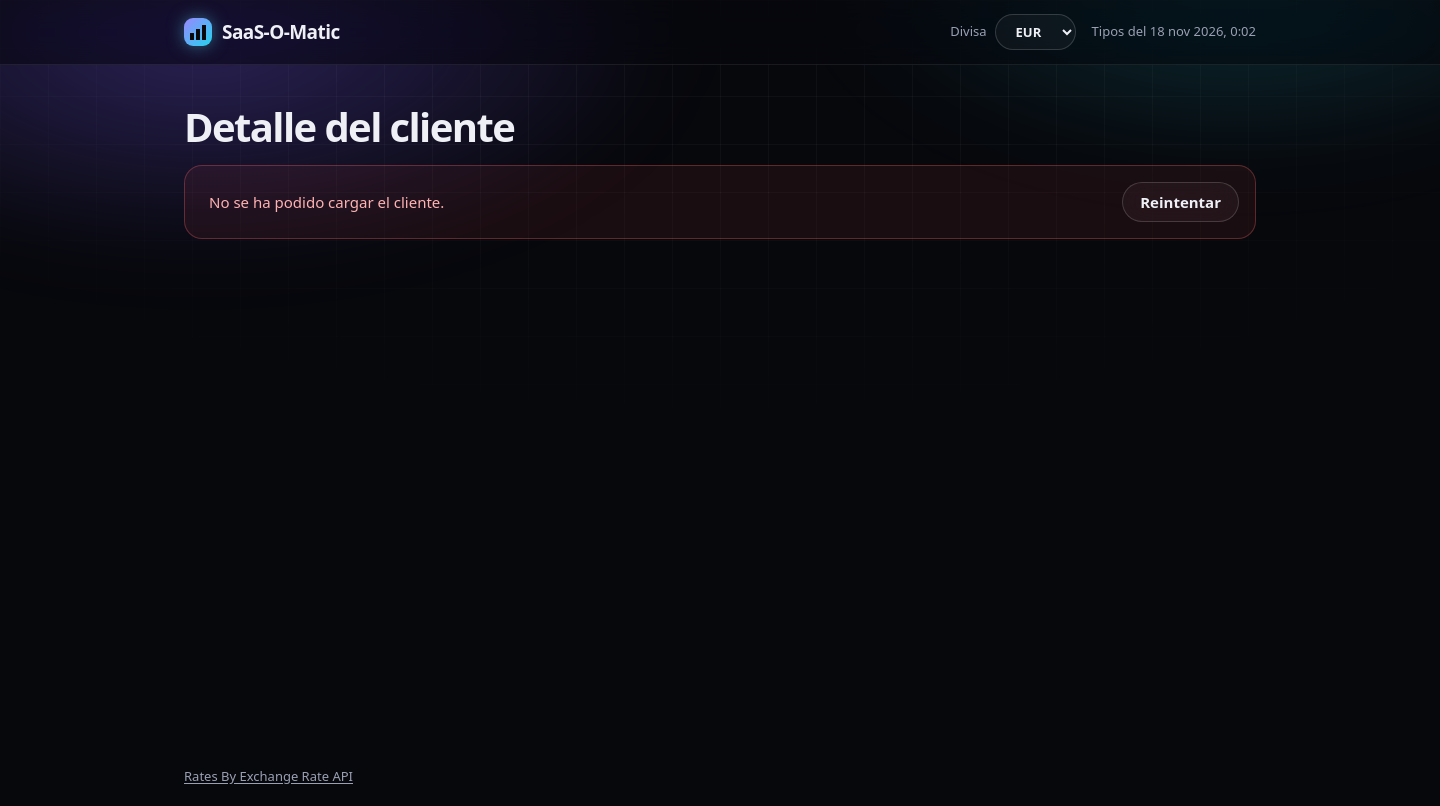
CustomerDetail › otro error muestra el aviso y «Reintentar» vuelve a pedir el cliente
This screenshot has width=1440, height=806.
Expected: the text "No se ha podido cargar el cliente." is shown, [209, 191, 444, 213]
Click the button "Reintentar".
click(1181, 202)  # box [1122, 182, 1239, 222]
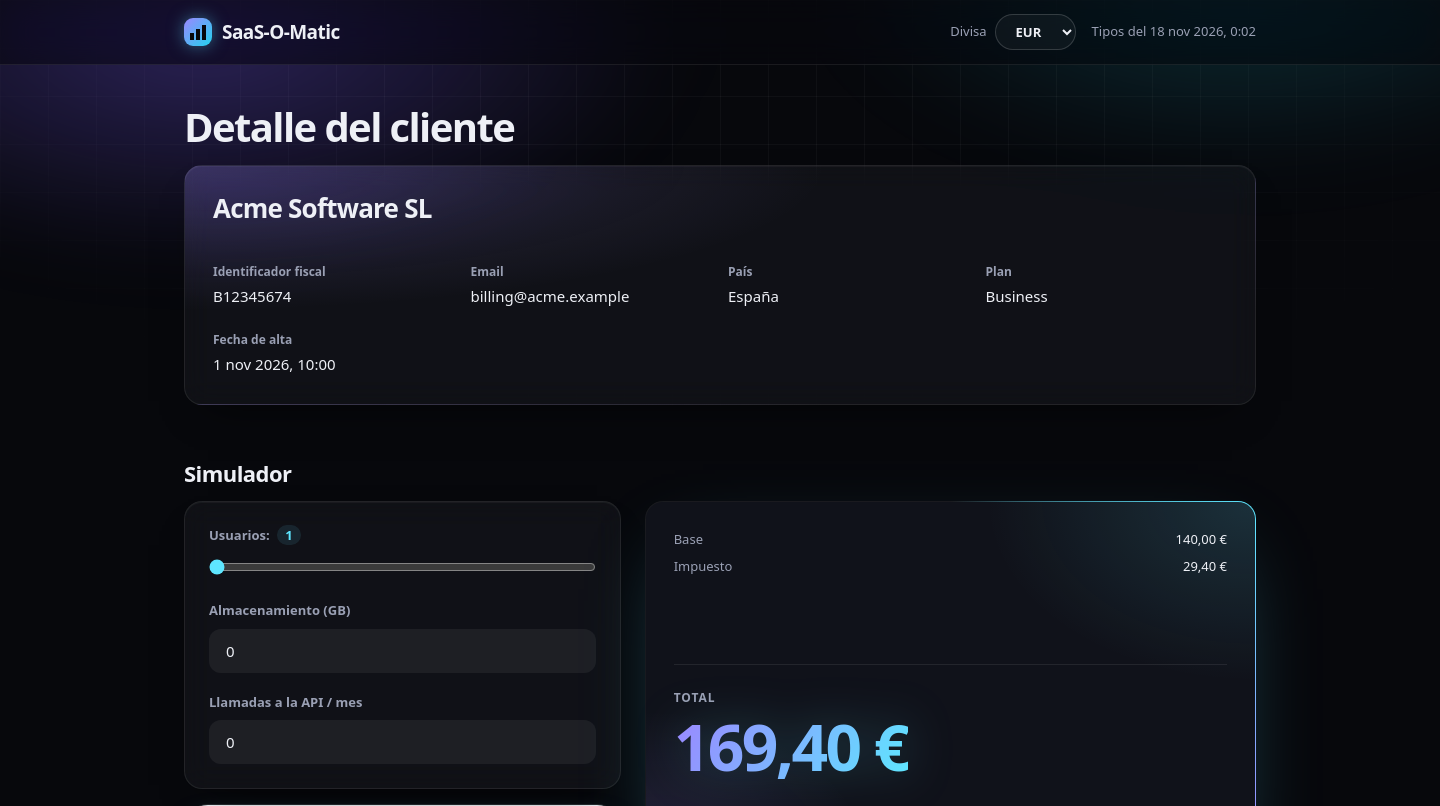
Expected: the element named "Datos del cliente" is shown, [184, 165, 1256, 405]
